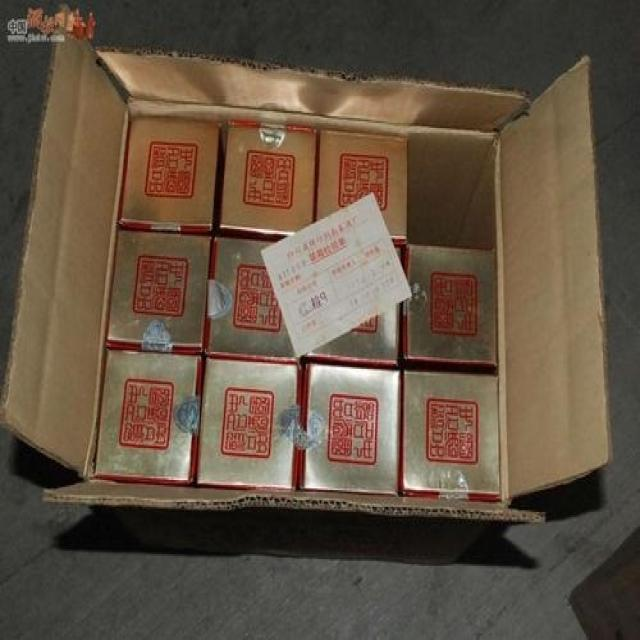box: (90, 350, 203, 483), (196, 357, 303, 489), (298, 365, 401, 498), (106, 228, 213, 353), (400, 372, 500, 498), (119, 114, 221, 232), (204, 238, 298, 365), (217, 122, 319, 237), (404, 244, 497, 368), (315, 130, 406, 242), (302, 304, 403, 367)
